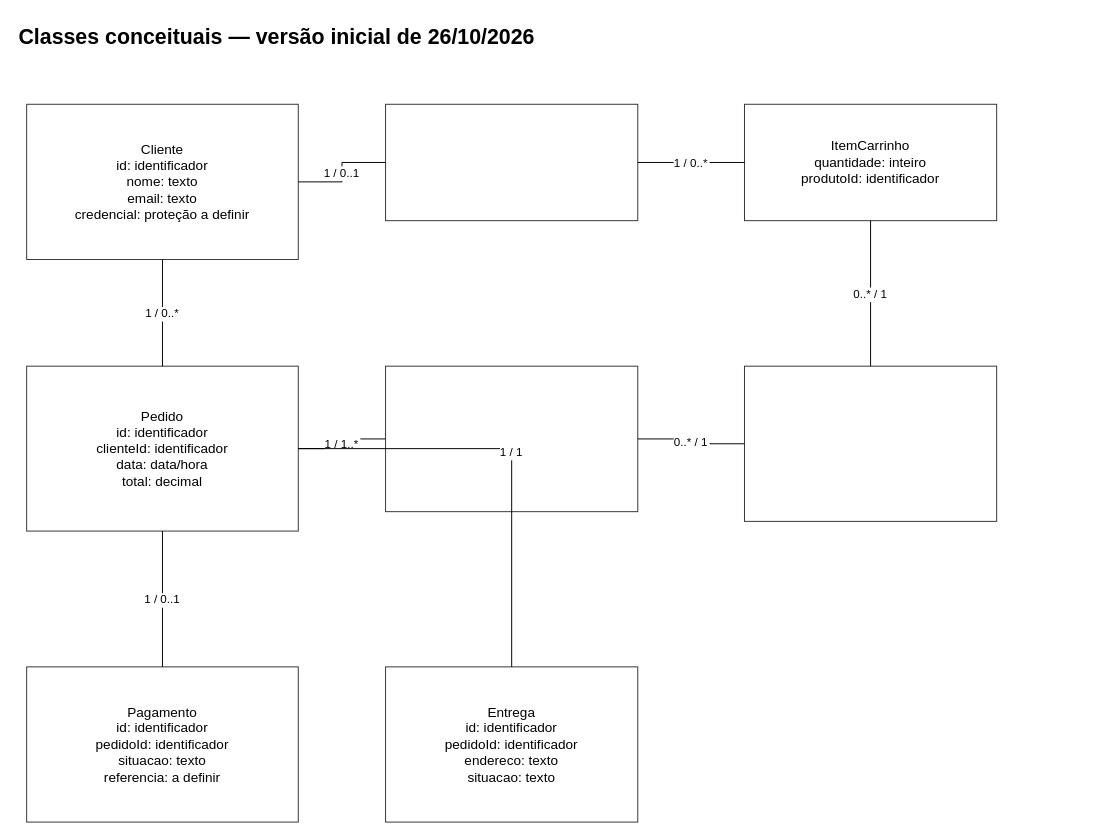
Image size: 1100x839. Some labels were removed from this diagram. Here are the shapes that lost their labels. From the top down, the centre of each, then its label:
pixel 511 162: Carrinho id: identificador clienteId: identificador
pixel 511 438: ItemPedido quantidade: inteiro precoUnitario: decimal produtoId: identificador
pixel 870 443: Cupcake id: identificador nome: texto descricao: texto preco: decimal
